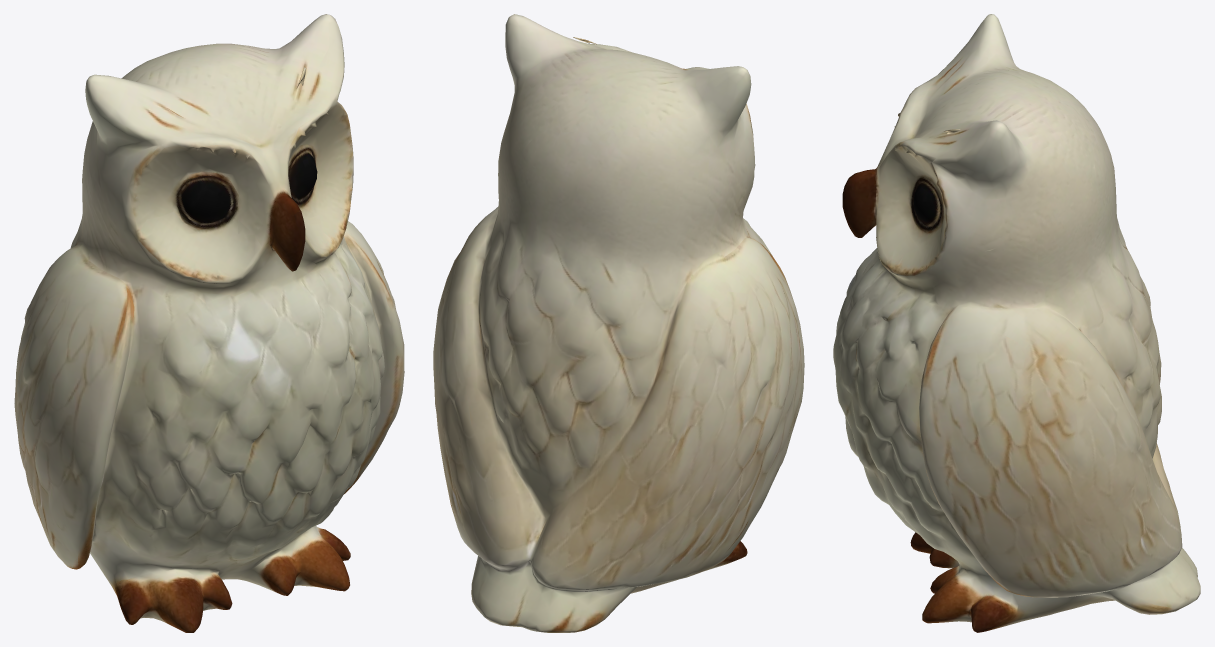
File: buho.glb
3 renders of one model, left to right at view 1: azimuth 30°, elevation 25°; view 2: azimuth 150°, elevation 25°; view 3: azimuth 270°, elevation 25°, orthographic. The views are drawn at different scales.
Parts seen in each view (by area): view 1: world; view 2: world; view 3: world.
Part boxes in pixels (x1,y1,x2,y2): world: (14, 14, 404, 632); world: (433, 14, 804, 632); world: (833, 14, 1200, 632).
Size of the model in its own units: 0.661 by 1 by 0.6477.
1 material, 1 textured.
